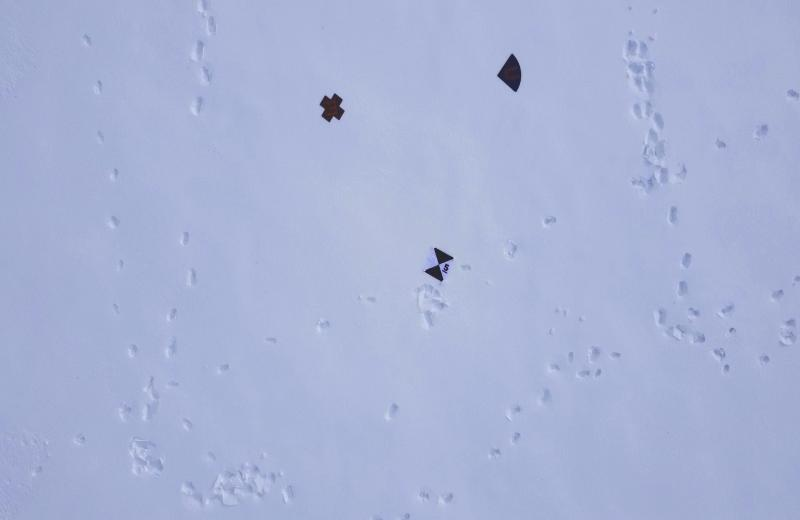Cross: (315, 90, 349, 126)
Quarter Circle: (492, 50, 526, 99)
